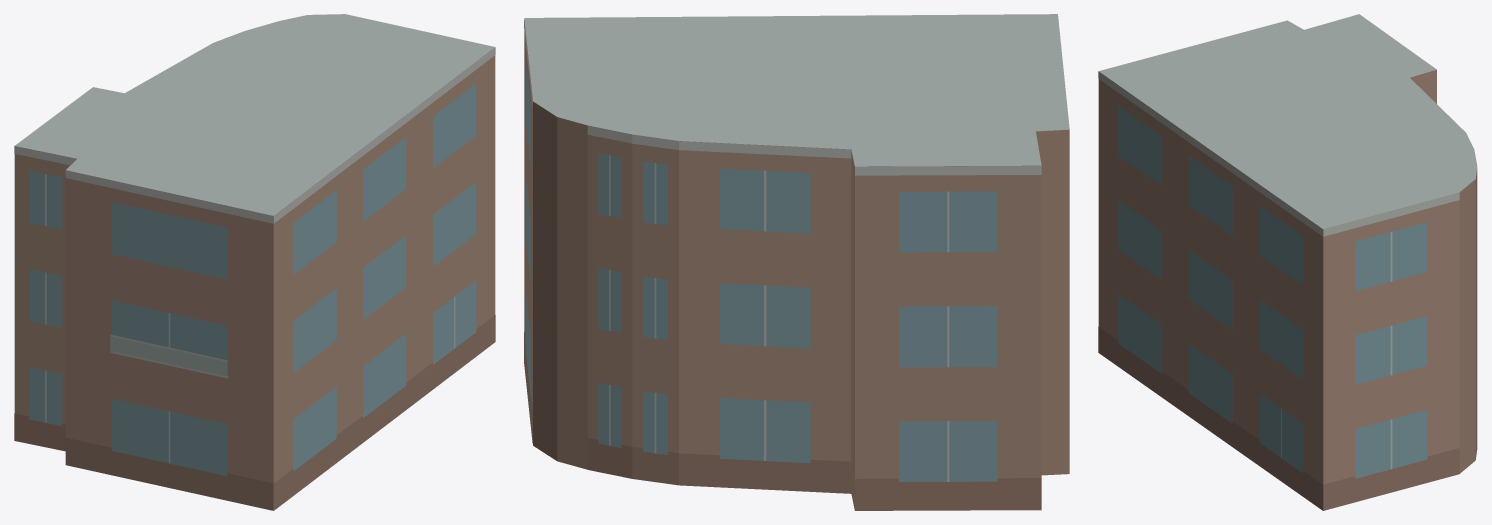
File: survey-upis-32915596.glb
The picture shows the model from 3 angles, left to right: view 1: azimuth 30°, elevation 25°; view 2: azimuth 150°, elevation 25°; view 3: azimuth 270°, elevation 25°; orthographic projection. The views are drawn at different scales.
Parts seen in each view (by area): view 1: survey-upis-32915596.tmp; view 2: survey-upis-32915596.tmp; view 3: survey-upis-32915596.tmp.
Boxes of the visible parts, x1=… form: survey-upis-32915596.tmp: x1=14, y1=14, x2=495, y2=510; survey-upis-32915596.tmp: x1=524, y1=14, x2=1069, y2=510; survey-upis-32915596.tmp: x1=1098, y1=14, x2=1477, y2=510.
Bounding box in the file's own units: 15.01 × 9.15 × 11.17.
